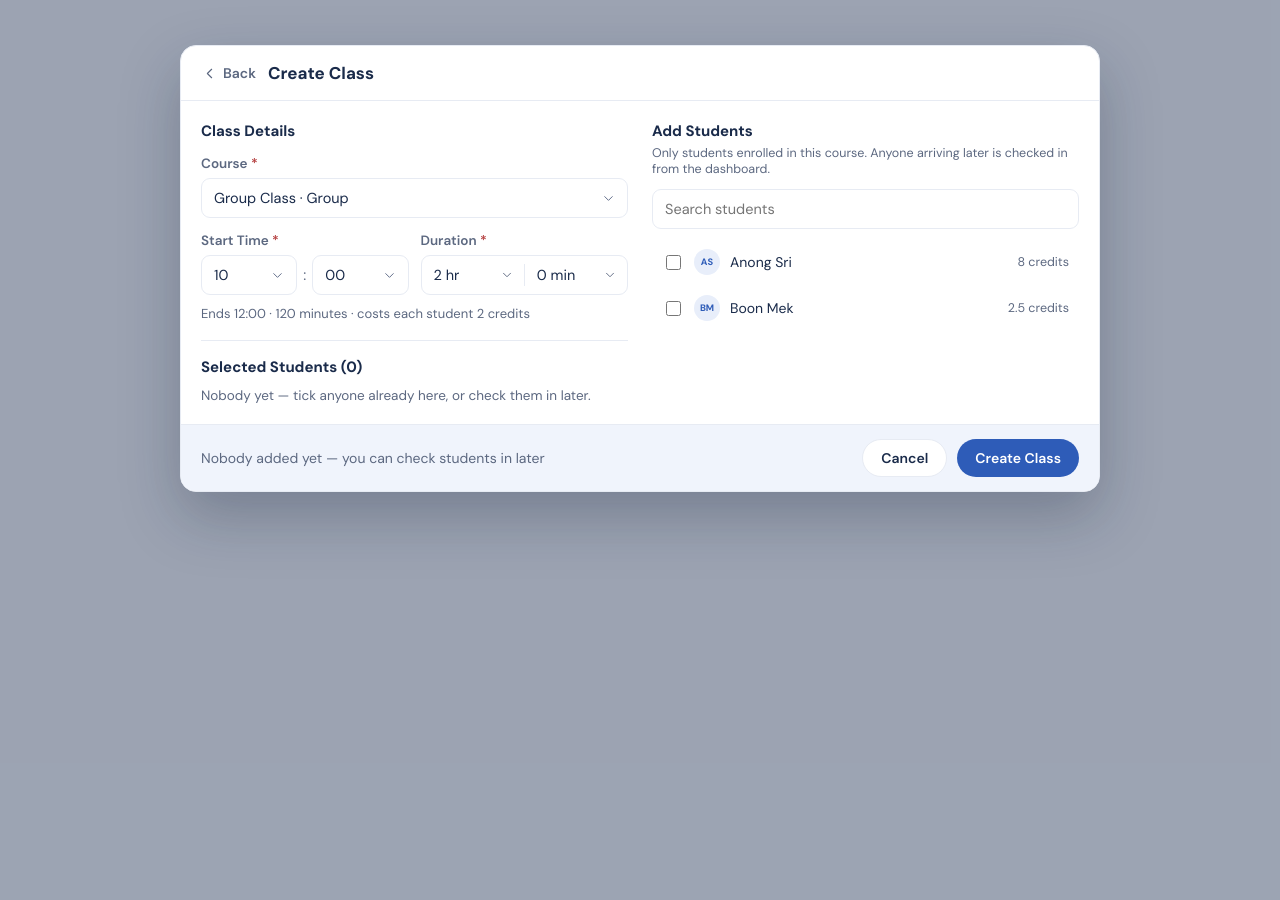
Test case: what it will cost › shows ninety minutes as one and a half
The image size is (1280, 900).
Step 1. Select "11" in the dropdown named "Start hour" → [249, 275], box [201,255,297,295]
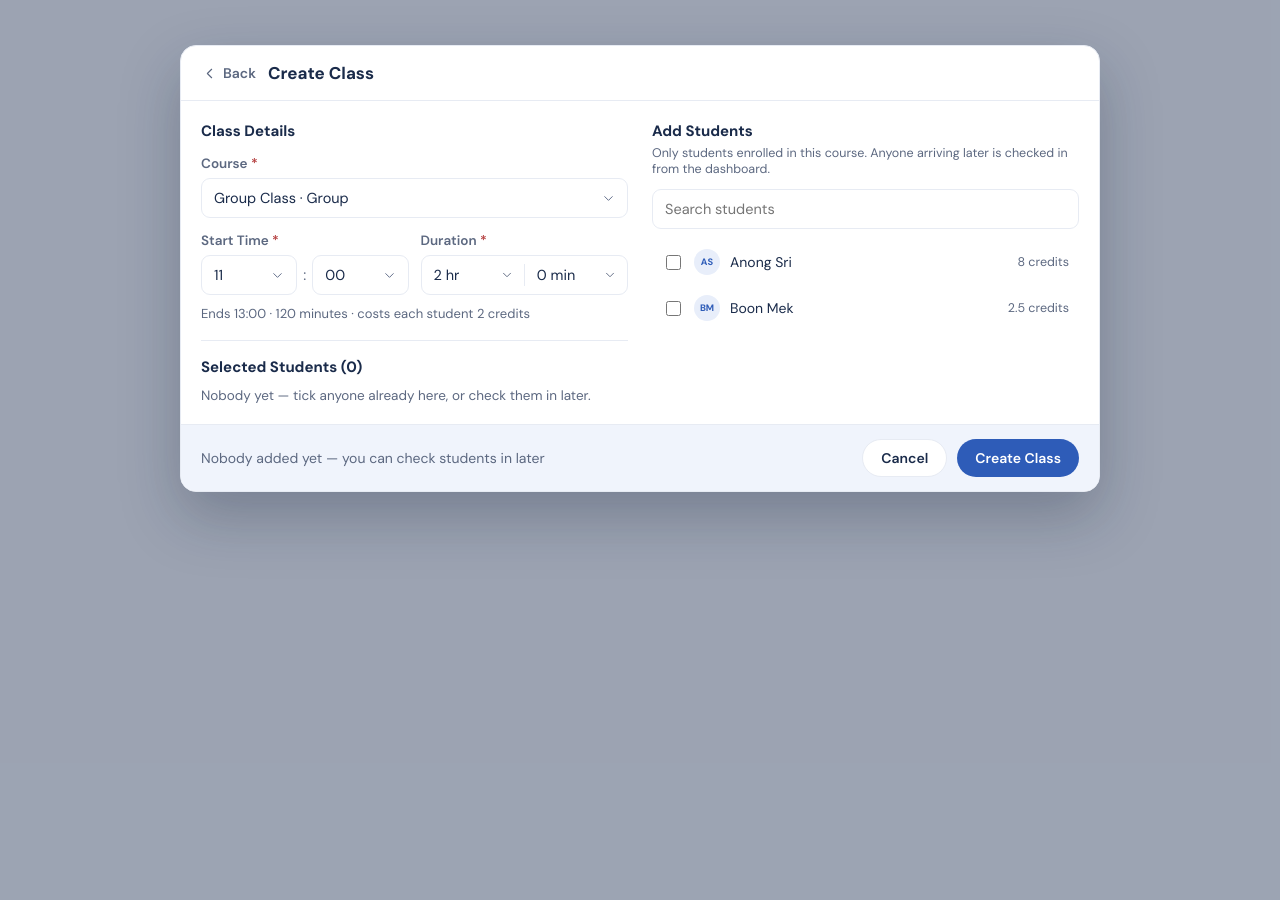
Step 2. Select "00" in the dropdown named "Start minute" → [360, 275], box [312,255,408,295]
Step 3. Click the button "2 hr" → [473, 275], box [422,256,524,294]
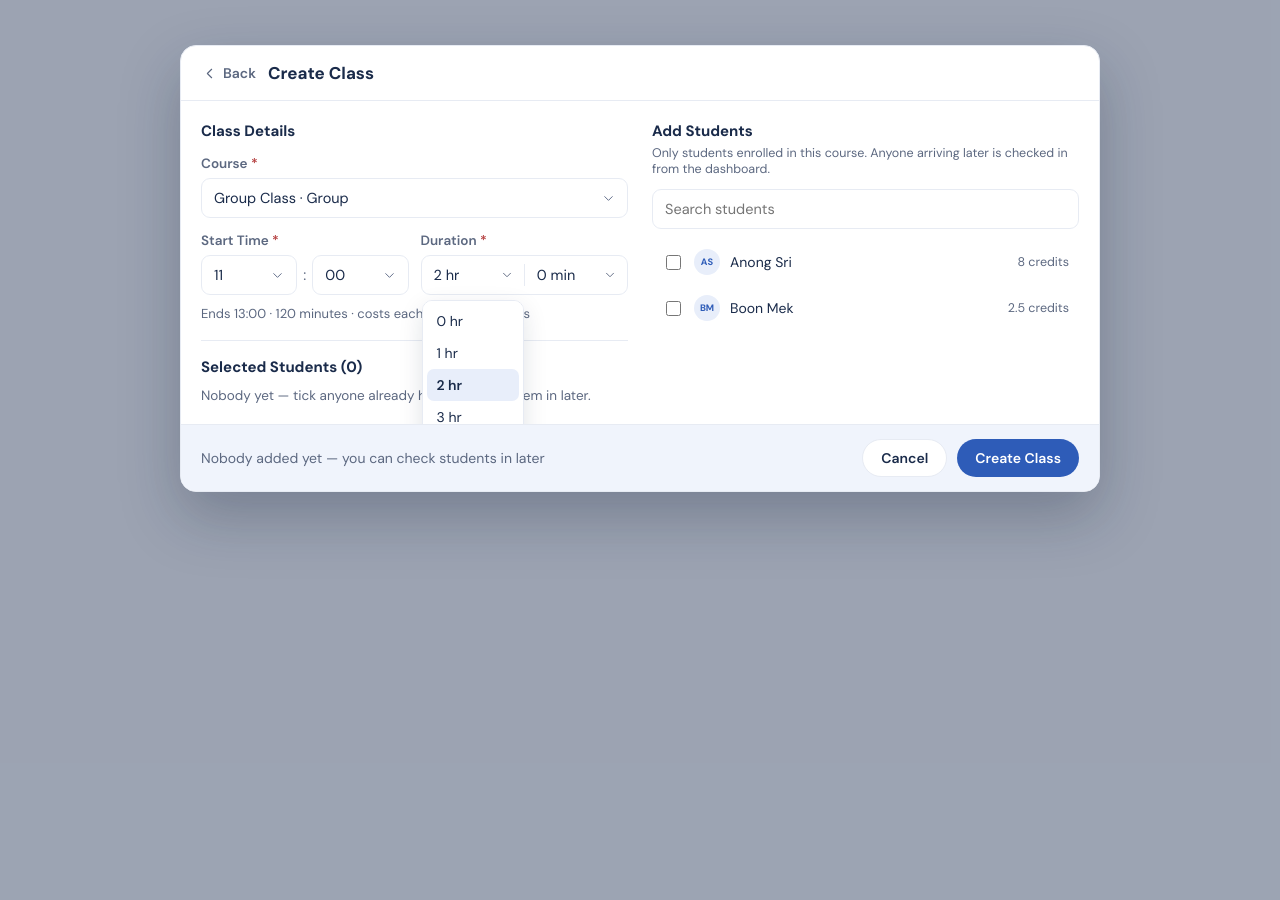
Step 4. Click the option "1 hr" → [447, 353], box [436,344,458,362]
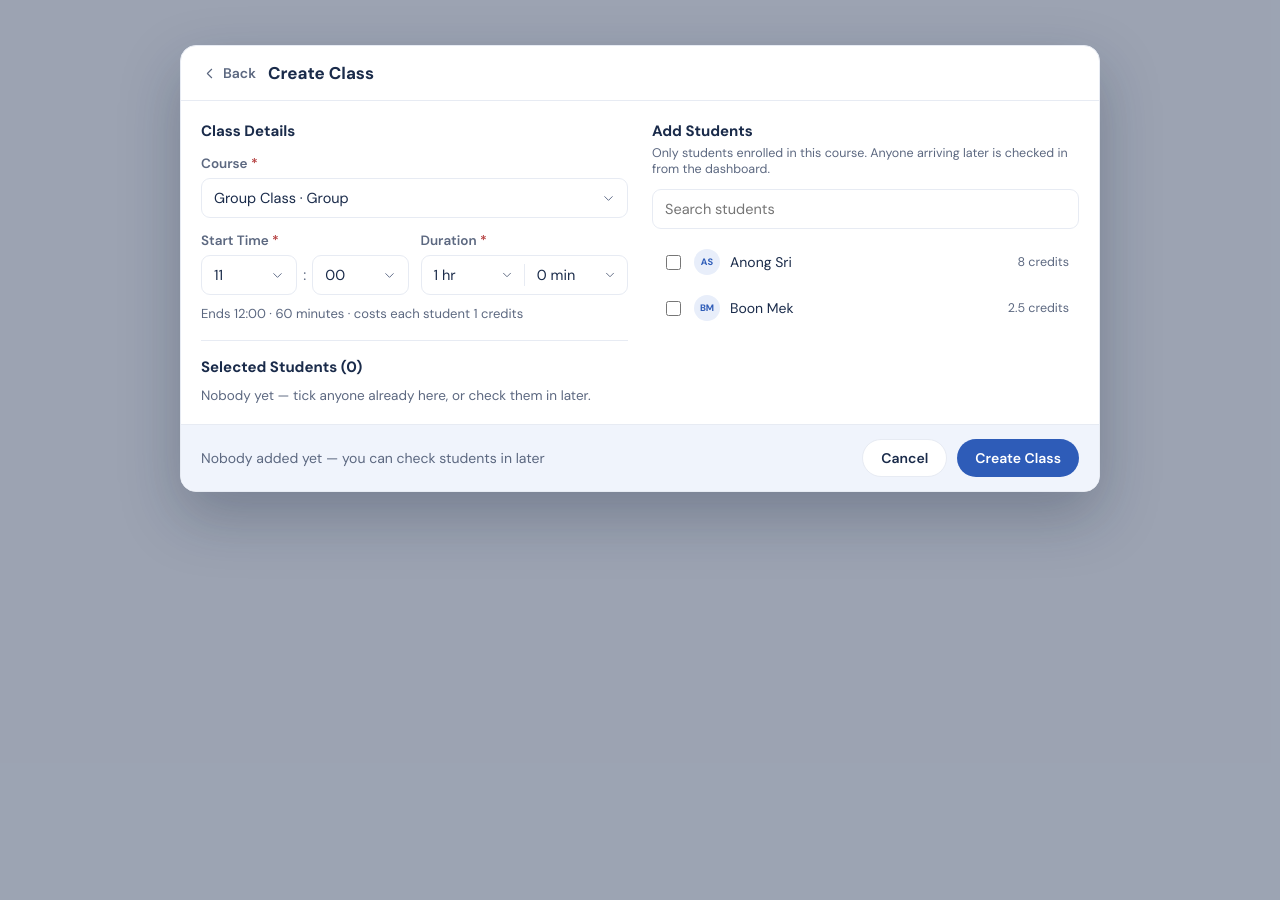
Step 5. Click the button "0 min" → [576, 275], box [525,256,627,294]
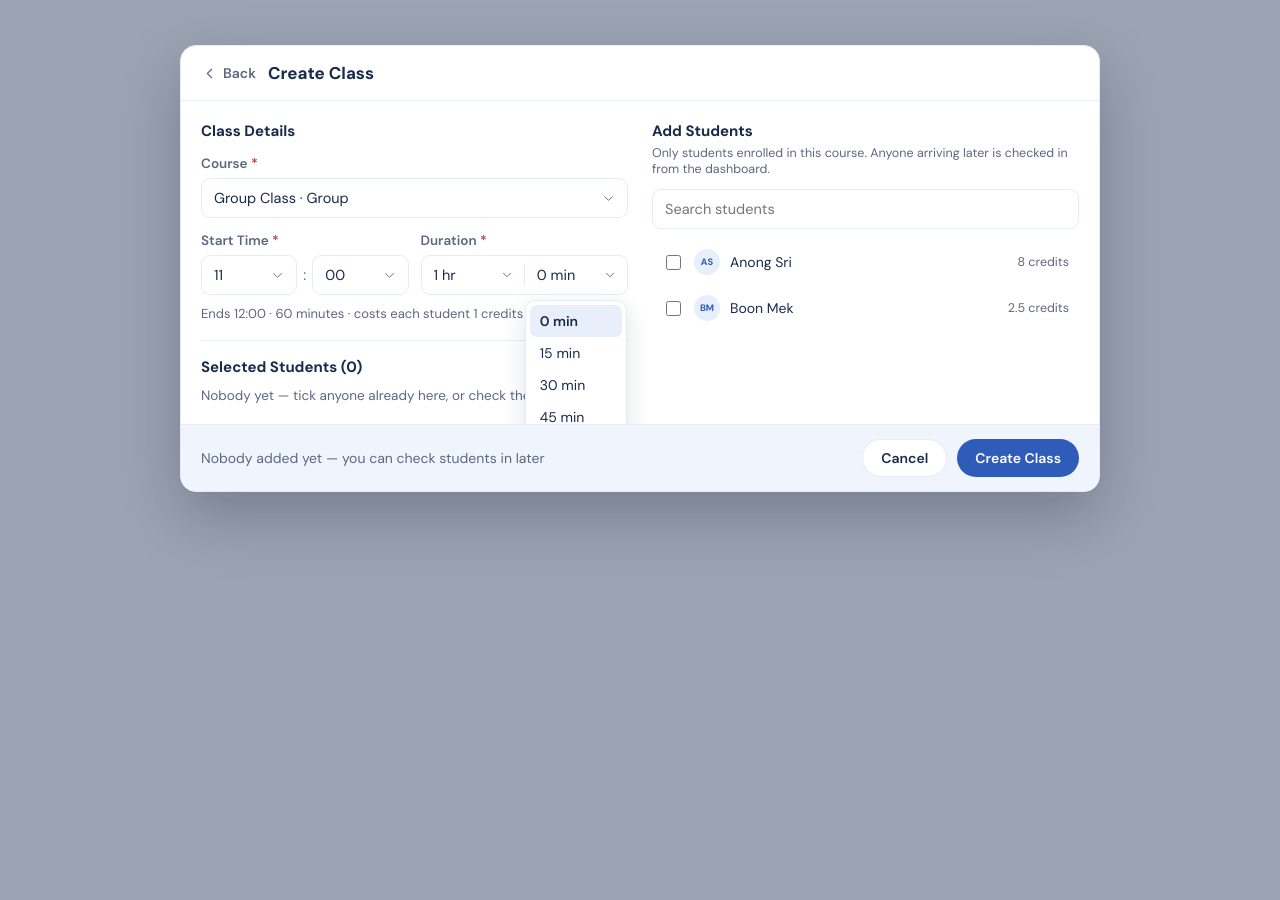
Step 6. Click the option "30 min" → [563, 385], box [540,376,585,394]
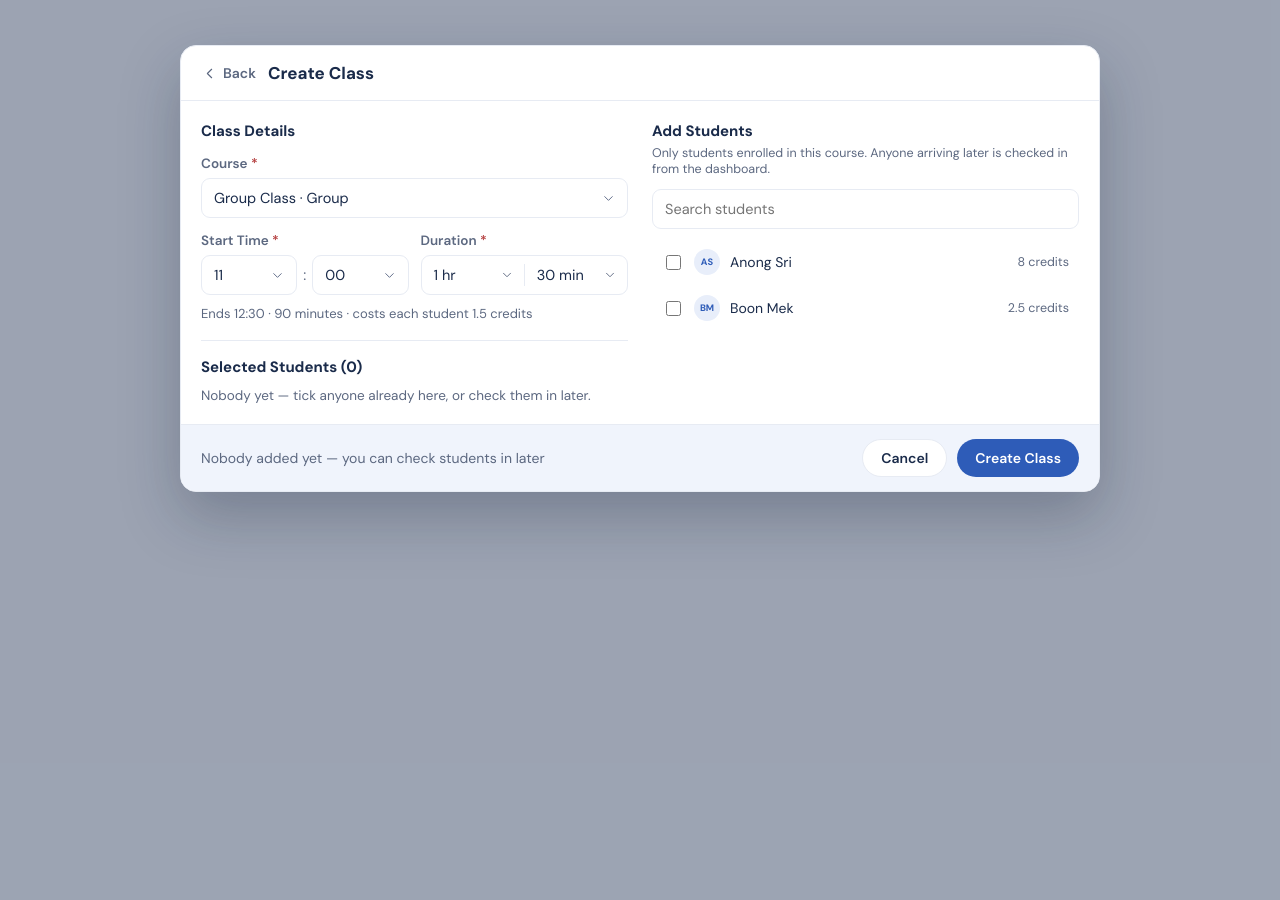
Check: the text "Ends 12:30 · 90 minutes · costs each student 1.5 credits" is shown, box [201,305,532,322]
